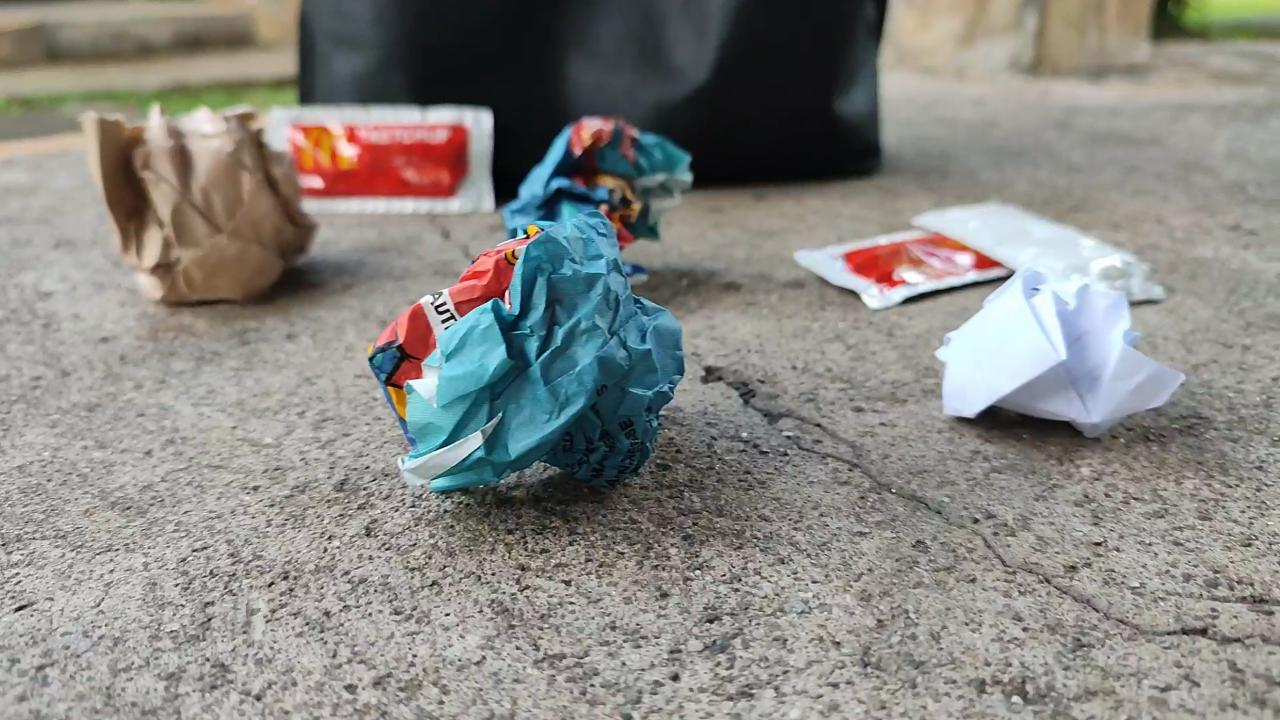Paper: (376, 209, 694, 516), (71, 107, 334, 310), (917, 266, 1197, 443), (509, 86, 690, 267)
